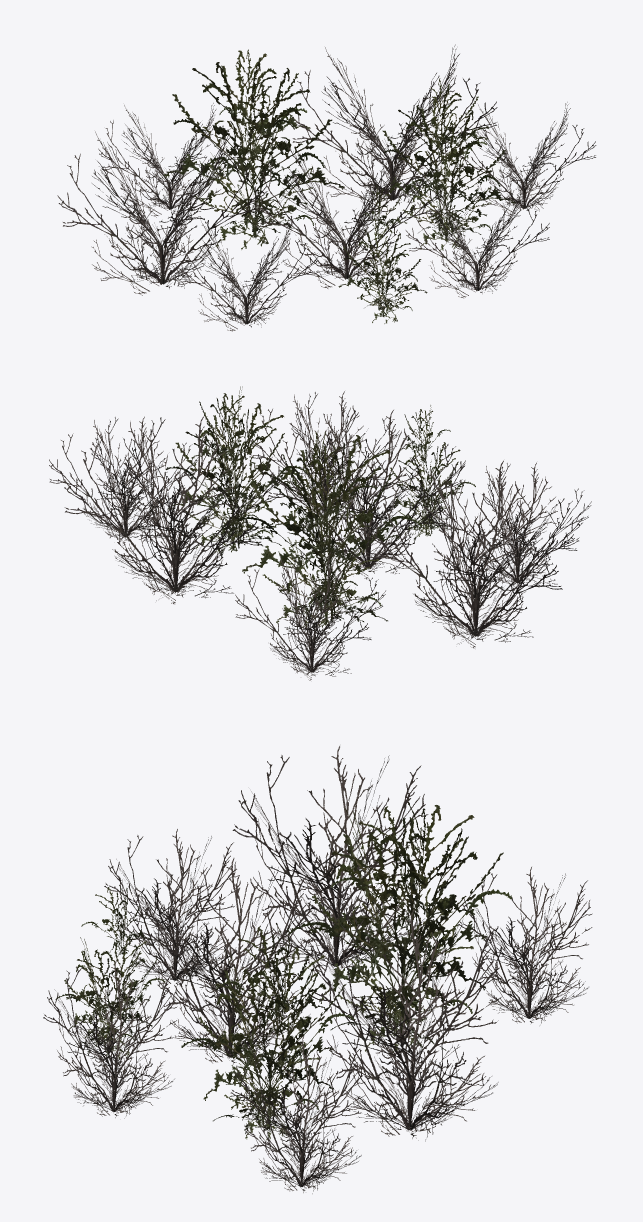
File: shrub_m_bg.glb
The picture shows the model from 3 angles, top to bottom: view 1: azimuth 30°, elevation 25°; view 2: azimuth 150°, elevation 25°; view 3: azimuth 270°, elevation 25°; orthographic projection. The views are drawn at different scales.
Visible parts, largest first — view 1: 0_low_grass_bush; view 2: 0_low_grass_bush; view 3: 0_low_grass_bush.
Boxes of the visible parts, x1=… form: 0_low_grass_bush: x1=57, y1=44, x2=596, y2=331; 0_low_grass_bush: x1=49, y1=386, x2=591, y2=680; 0_low_grass_bush: x1=43, y1=746, x2=592, y2=1193.
Size of the model in its own units: 2.5 by 0.7941 by 1.82.
Materials: 1 (1 with a texture image).
